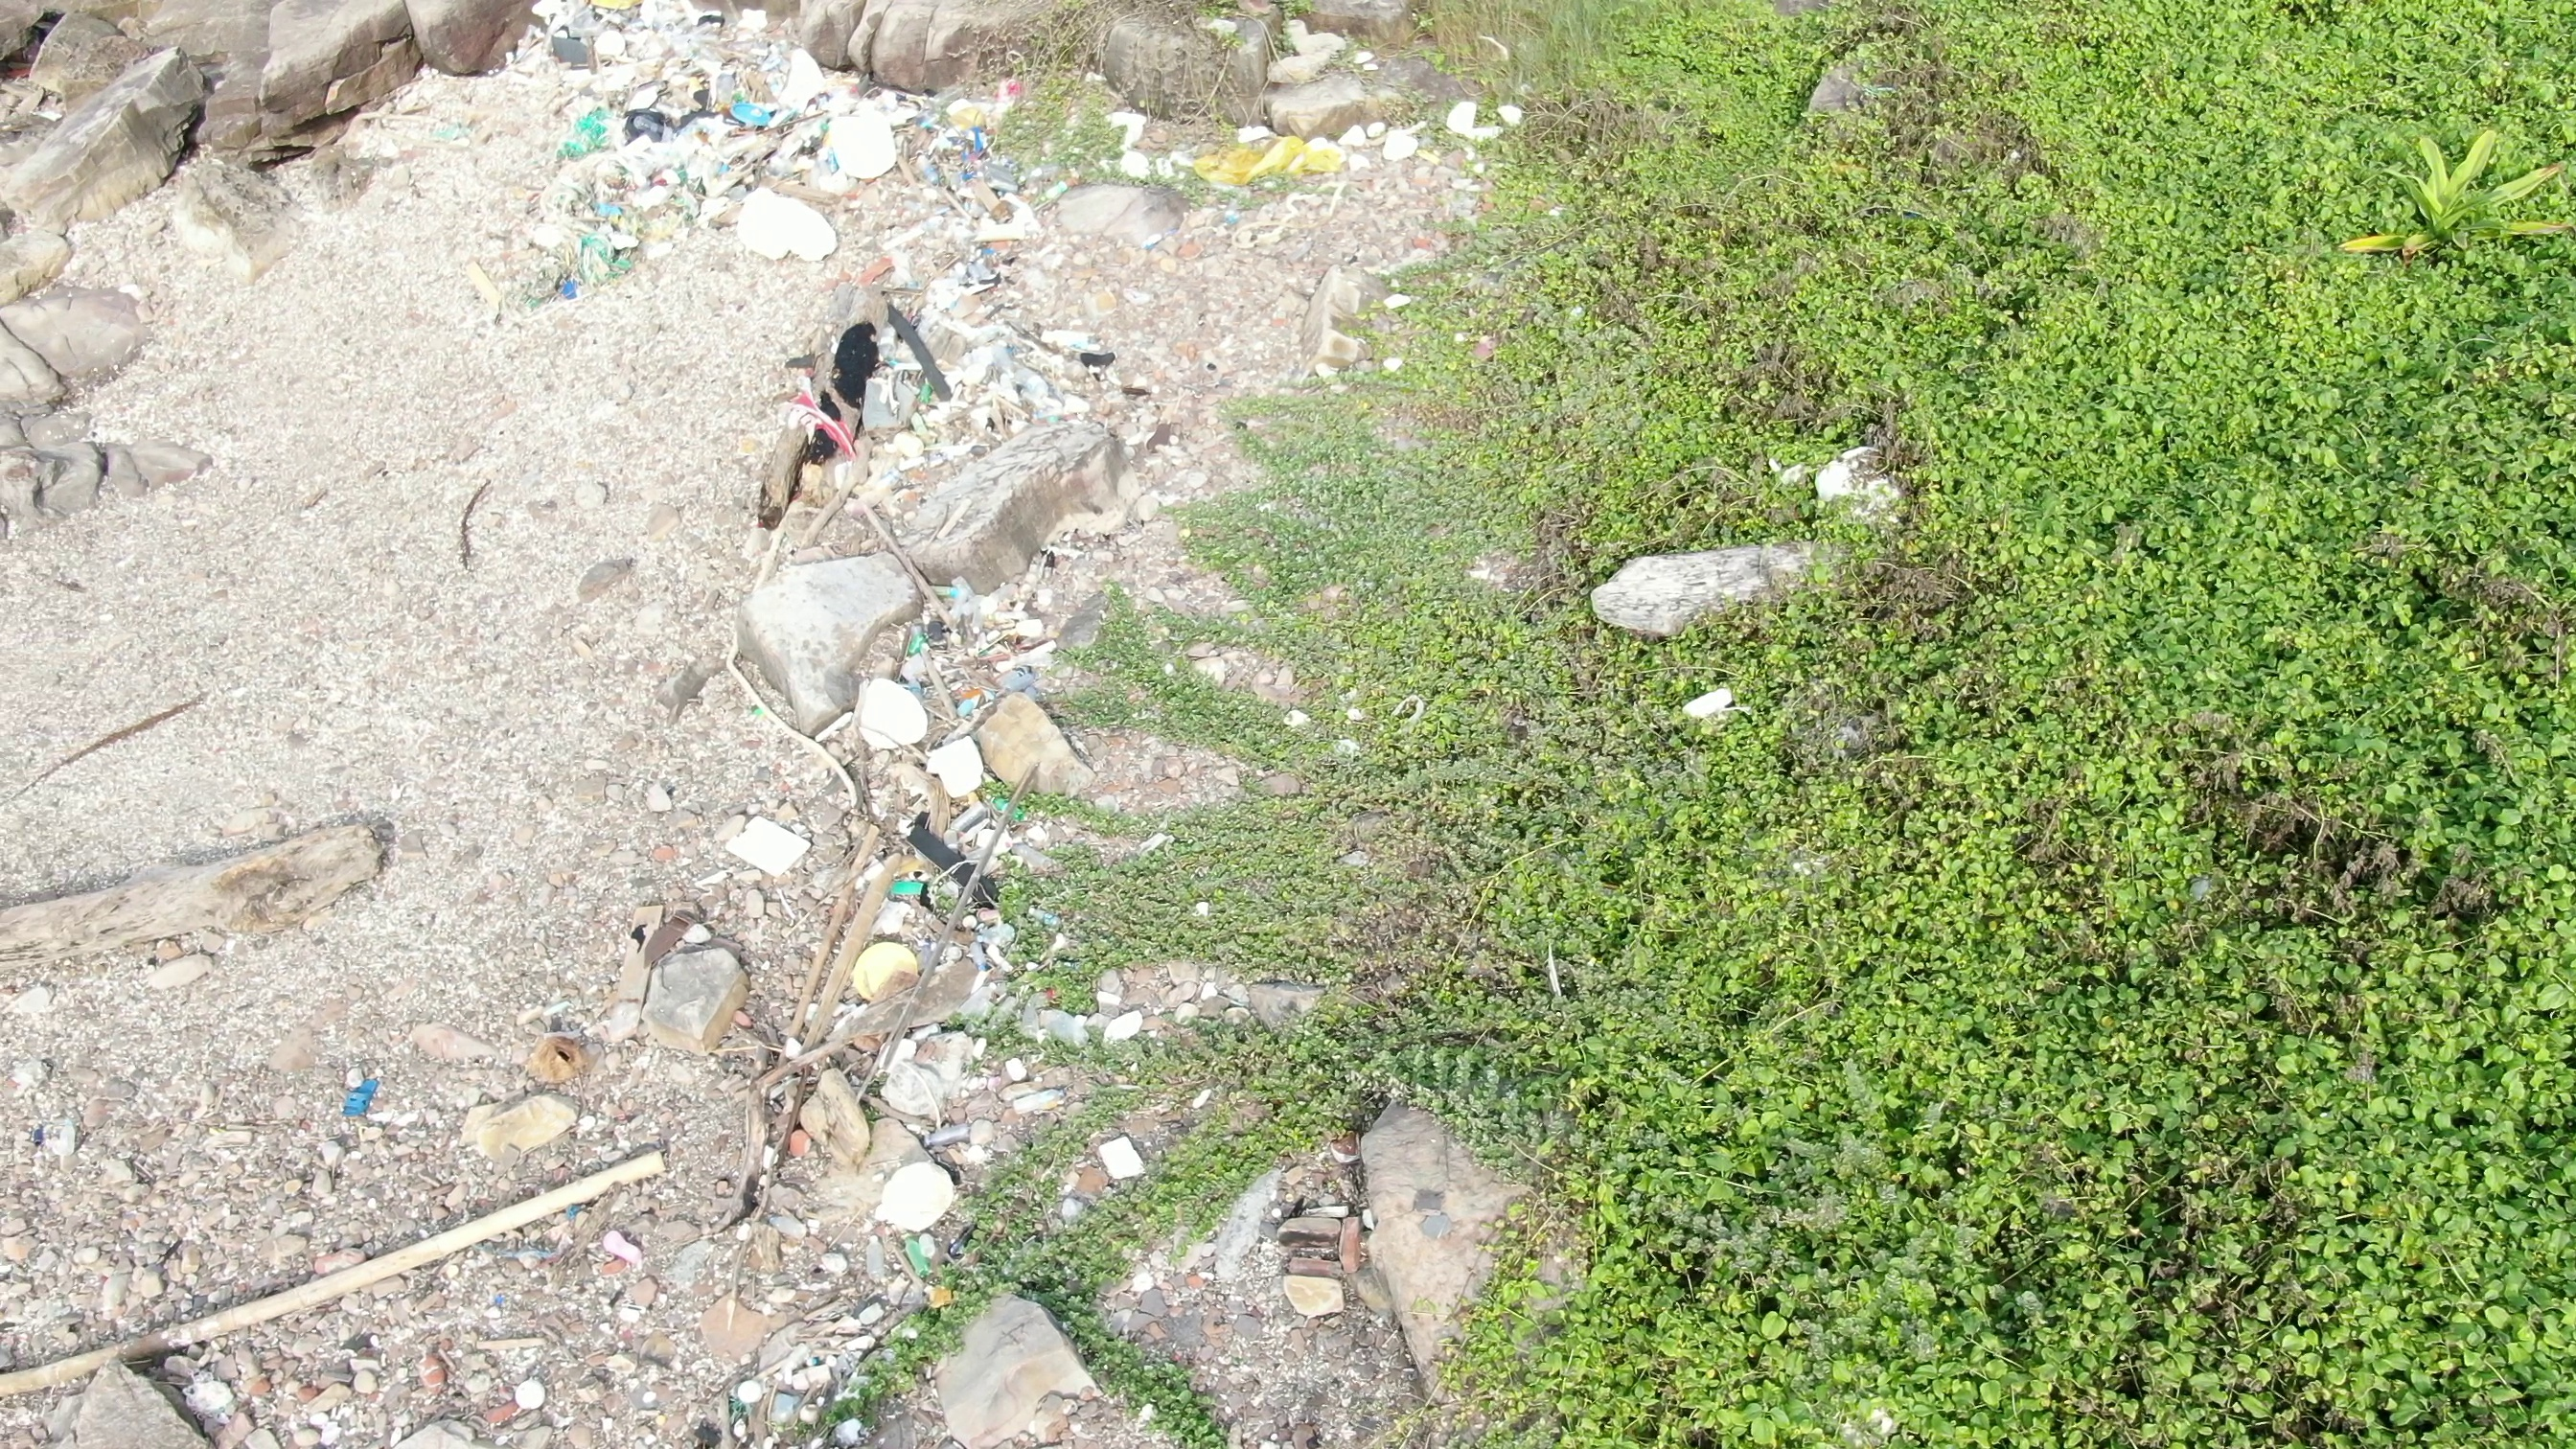garbage: (740, 295, 1120, 915), (501, 2, 1054, 306), (1191, 81, 1568, 200), (893, 1228, 968, 1320), (326, 1058, 393, 1131)
